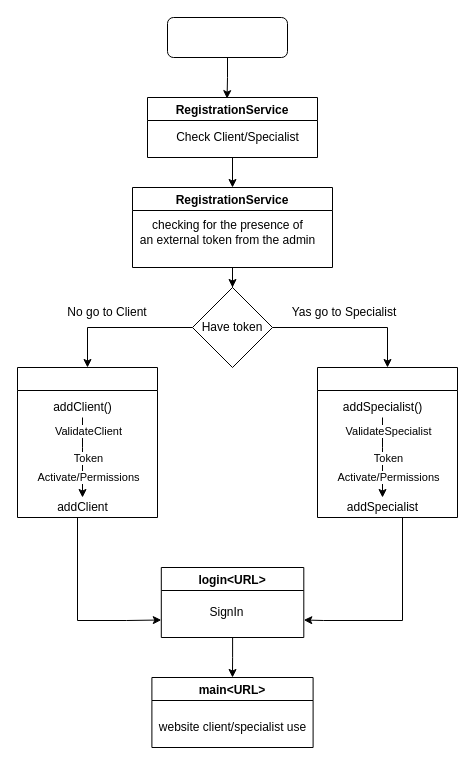
Some shapes in this 475 by 765 pixel diagram are drawn without their labels. The box of each missing label's shape, as (x1, y1, x2, y2) in pixels:
ClientServise: (16, 366, 158, 518)
Registration URL: (166, 16, 288, 58)
SpecialistServise: (316, 366, 458, 518)
